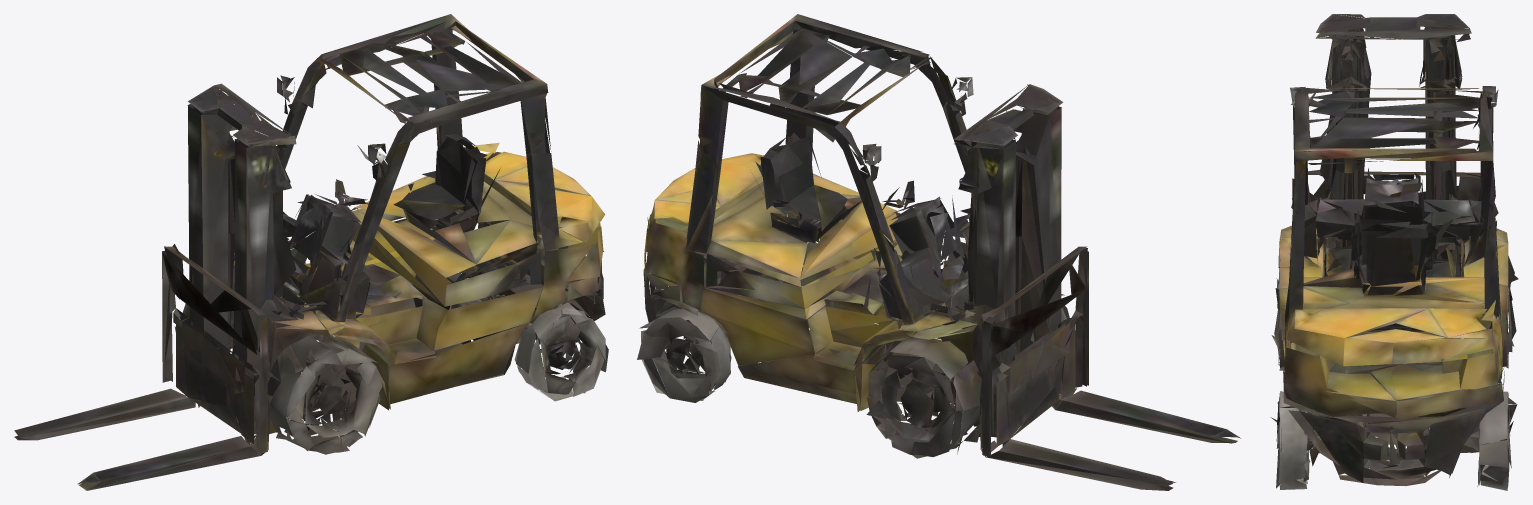
The model's file is forklift.glb.
The picture shows the model from 3 angles, left to right: view 1: azimuth 30°, elevation 25°; view 2: azimuth 150°, elevation 25°; view 3: azimuth 270°, elevation 25°; orthographic projection. The views are drawn at different scales.
Parts seen in each view (by area): view 1: Mesh_0; view 2: Mesh_0; view 3: Mesh_0.
Part boxes in pixels (box(x1,y1,x2,y2)): Mesh_0: box(14, 14, 608, 490); Mesh_0: box(637, 14, 1240, 490); Mesh_0: box(1270, 14, 1518, 490).
Bounding box in the file's own units: 1.92 × 1.05 × 0.7299.
1 material, 1 textured.
